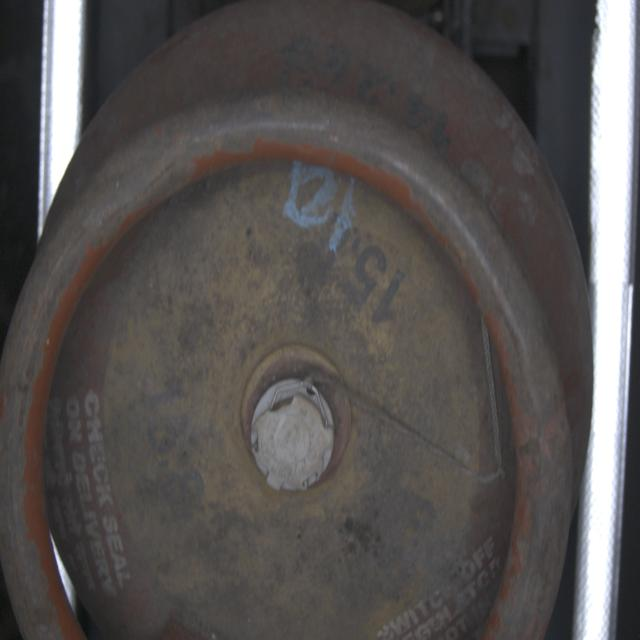Cap: (251, 376, 338, 497)
